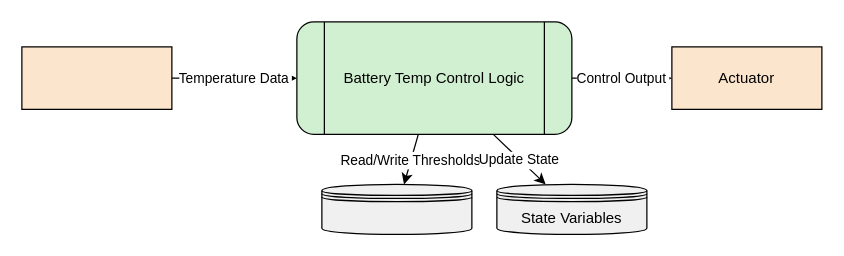
The diagram is 844 pixels wide and 256 high, and some of its shapes have lost their labels. Each missing label, with the centre of its shape:
"CAN Bus" belongs at point (96, 77).
"Threshold Config" belongs at point (396, 208).
